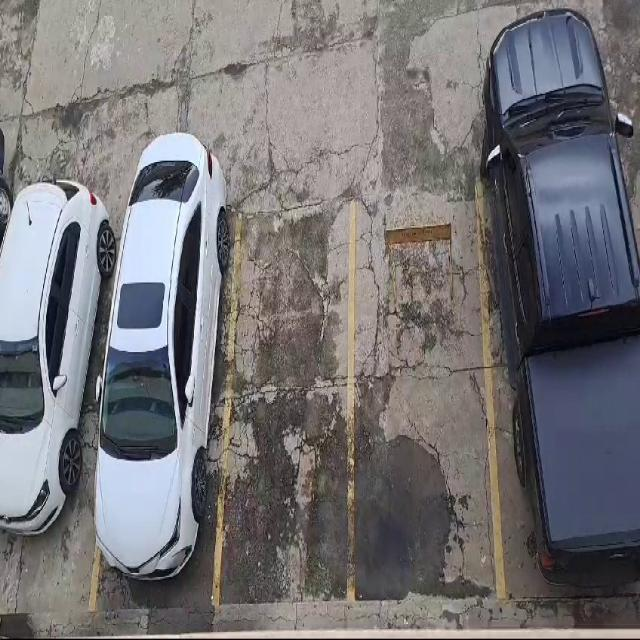empty: (352, 187, 501, 593), (215, 208, 355, 598)
notEmpty: (478, 171, 639, 598), (91, 217, 238, 609), (0, 218, 126, 608)
